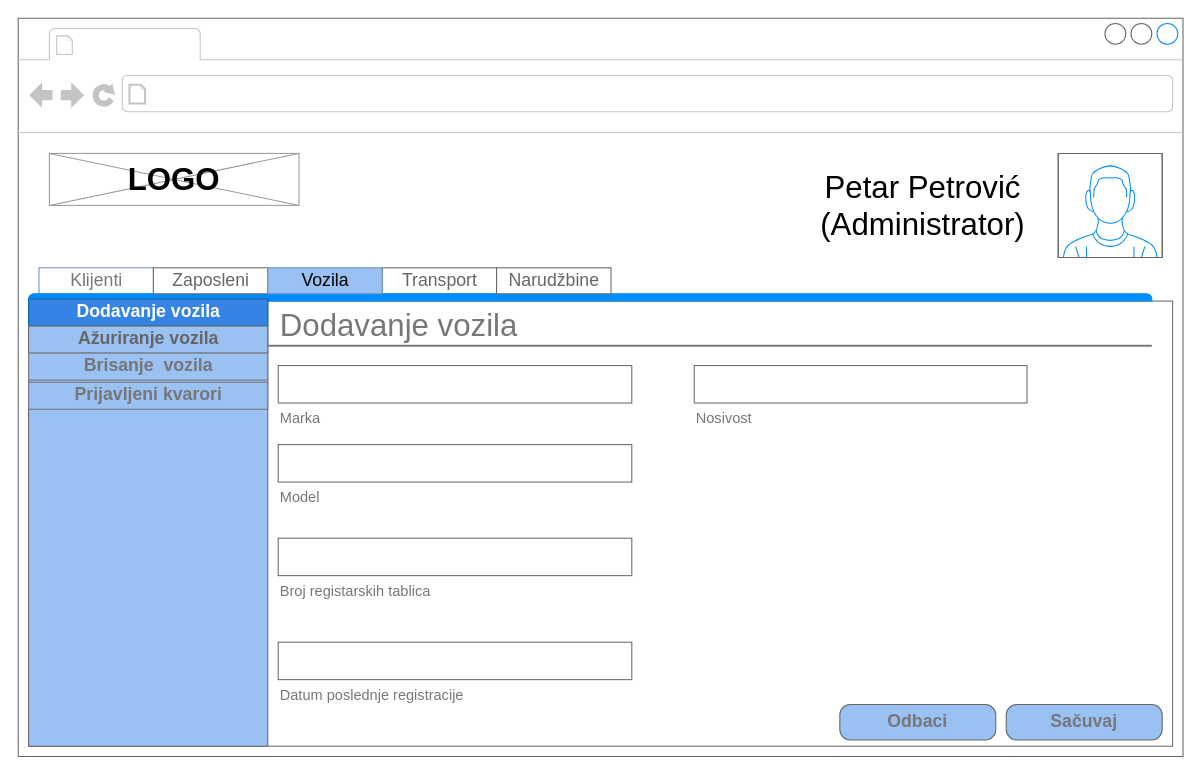
Image size: 1201x775. Some labels were removed from this diagram. Each missing label, with the centre of its shape:
"https://www.transportsecera.com/admin/klijenti" goes at point 386,94.
"Transport šećera" goes at point 137,44.
